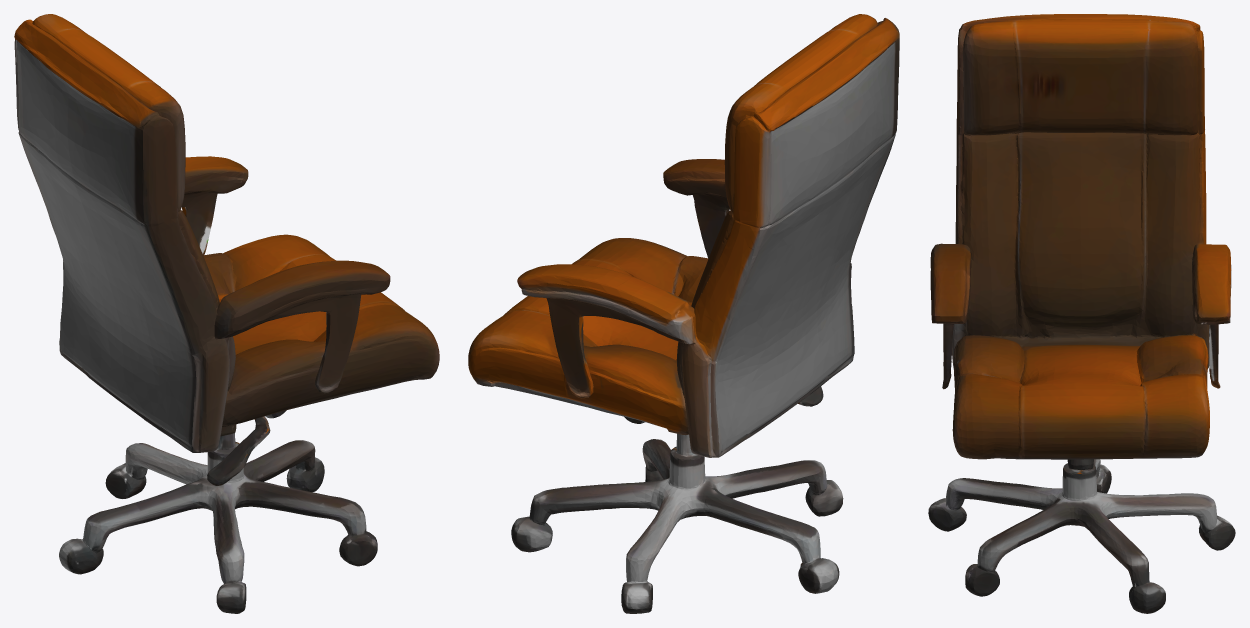
The model's file is office_chair_12.obj.
3 views of the same model, side by side, from view 1: azimuth 30°, elevation 25°; view 2: azimuth 150°, elevation 25°; view 3: azimuth 270°, elevation 25° (orthographic). The views are drawn at different scales.
Size of the model in its own units: 0.6893 by 1.1 by 0.6383.
Materials: 1 (1 with a texture image).
